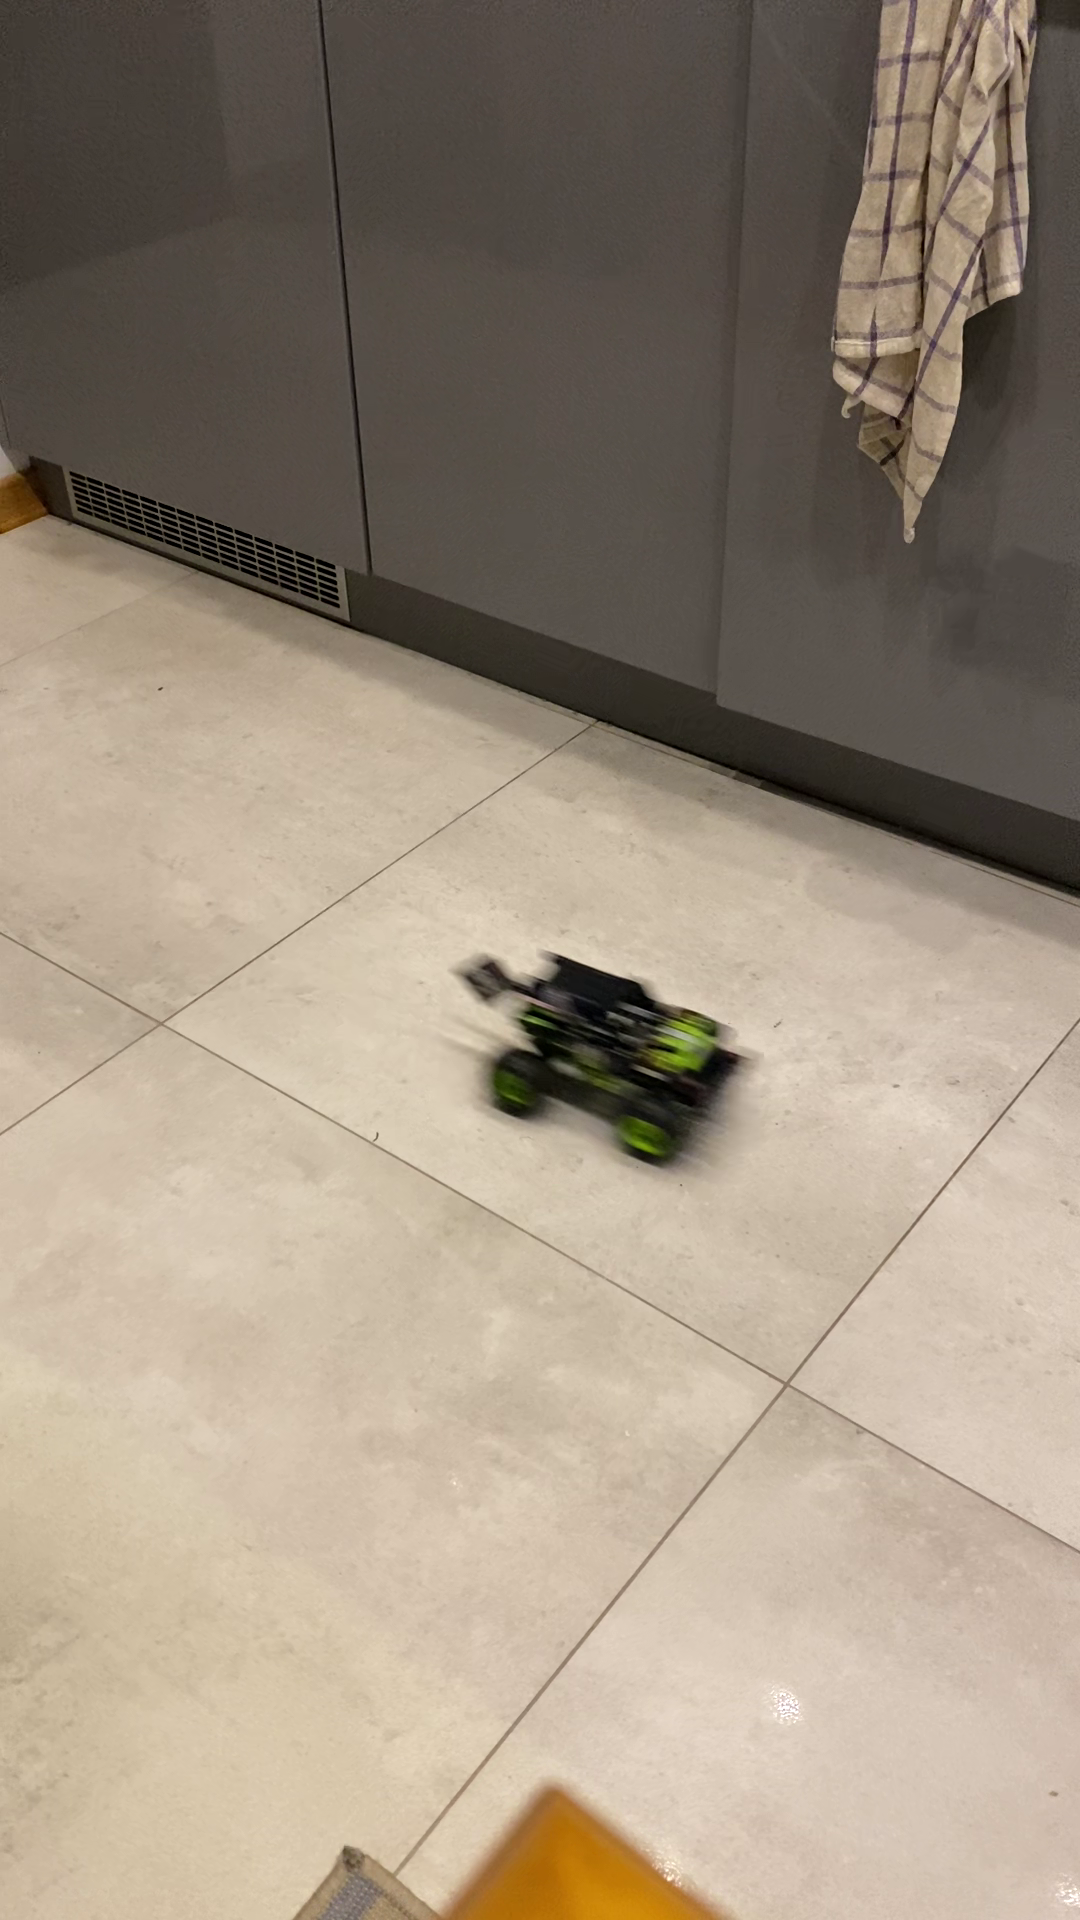car: (473, 959, 740, 1166)
